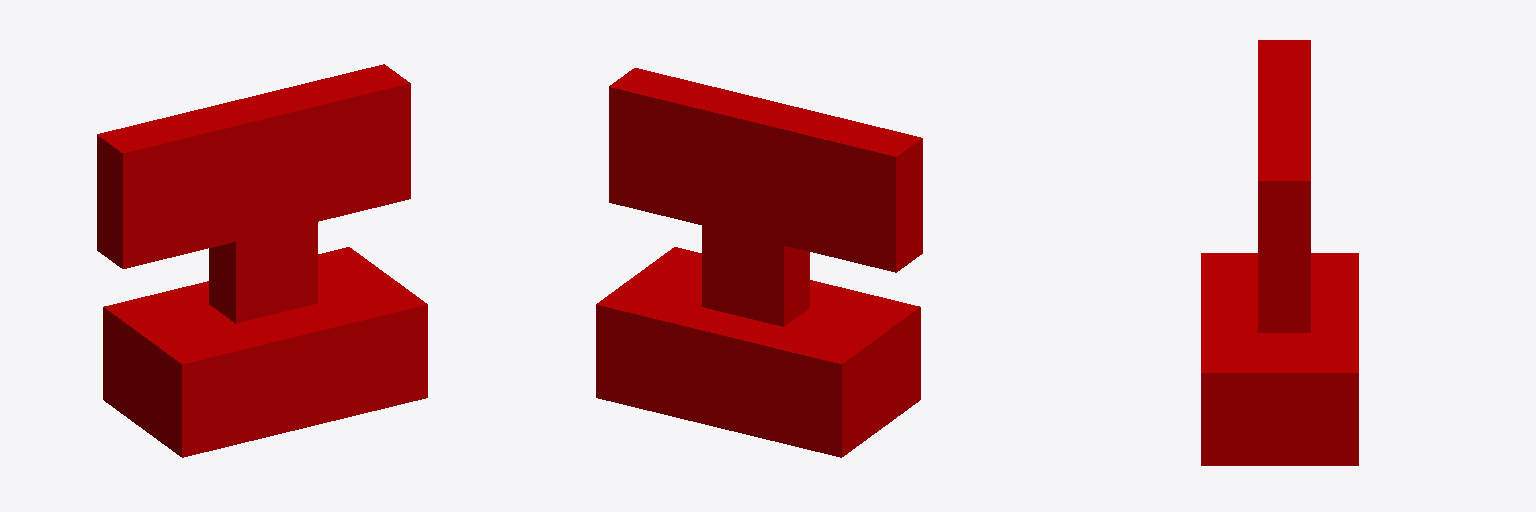
File: debug_test.obj
3 views of the same model, side by side, from view 1: azimuth 30°, elevation 25°; view 2: azimuth 150°, elevation 25°; view 3: azimuth 270°, elevation 25° (orthographic).
Parts seen in each view (by area): view 1: Cube; view 2: Cube; view 3: Cube.
Boxes of the visible parts, box(x1,y1,x2,y2) form: Cube: box(97, 64, 427, 457); Cube: box(596, 68, 922, 457); Cube: box(1201, 40, 1358, 465).
Bounding box in the file's own units: 6.45 × 6.23 × 3.06.